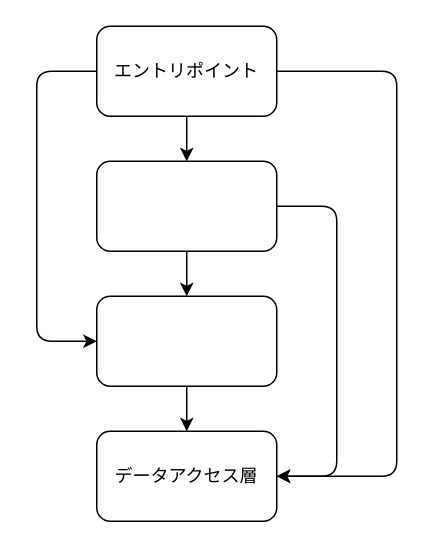
Image size: 435x548. Some labels were removed from this diagram. The centre of each missing label's shape, as x and y in pixels:
UI層: (x=186, y=205)
ドメイン層: (x=186, y=340)
